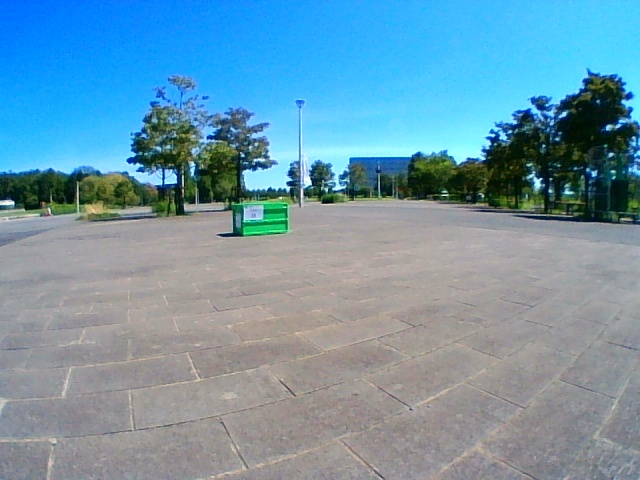green_box: (233, 202, 288, 236)
tag: (244, 206, 262, 219)
